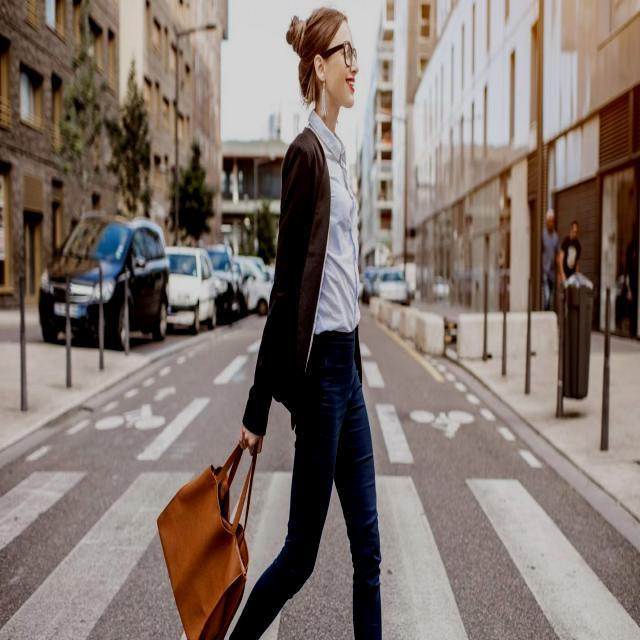person: (225, 0, 377, 640)
